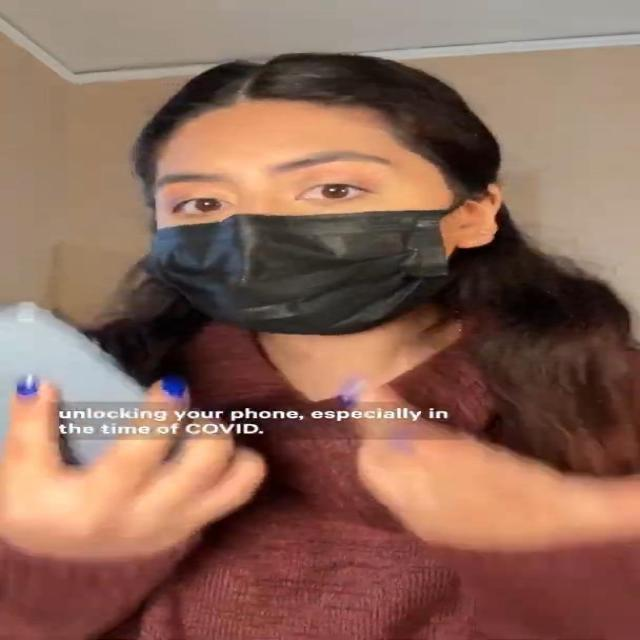Mask: (124, 97, 495, 348)
